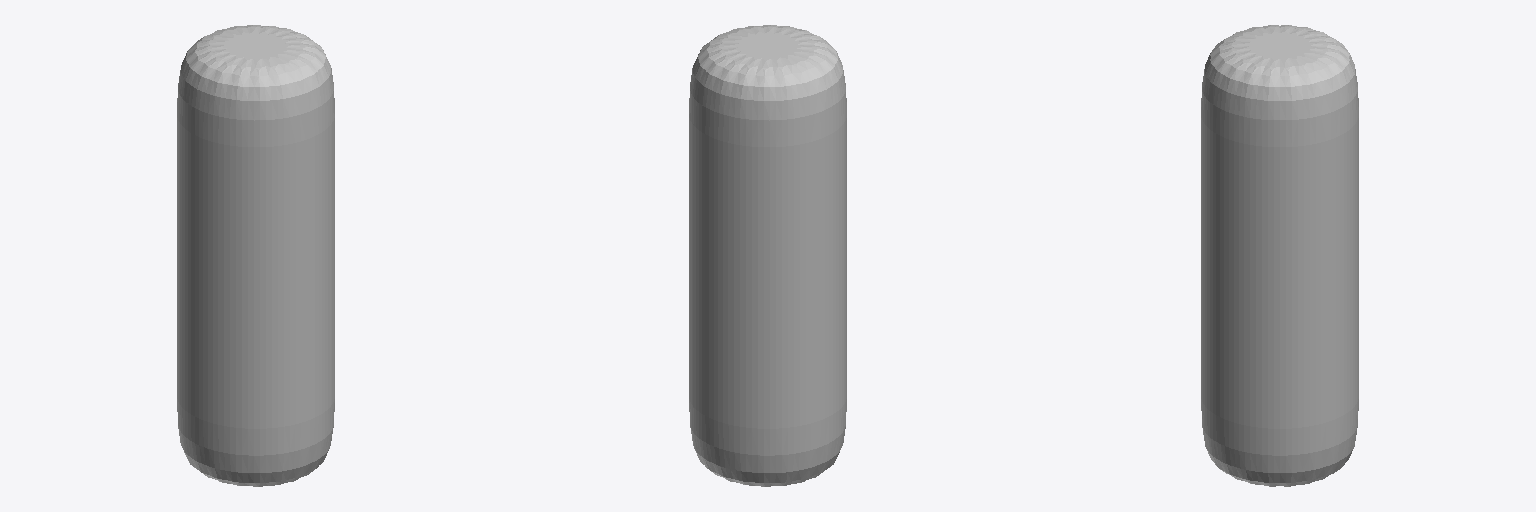
The model's file is llleg.obj.
3 views of the same model, side by side, from view 1: azimuth 30°, elevation 25°; view 2: azimuth 150°, elevation 25°; view 3: azimuth 270°, elevation 25° (orthographic).
Visible parts, largest first — view 1: pCylinder4; view 2: pCylinder4; view 3: pCylinder4.
Part boxes in pixels (x1,y1,x2,y2): pCylinder4: (177,25,334,486); pCylinder4: (689,25,846,486); pCylinder4: (1201,25,1358,486).
Bounding box in the file's own units: 0.5868 × 1.72 × 0.5868.